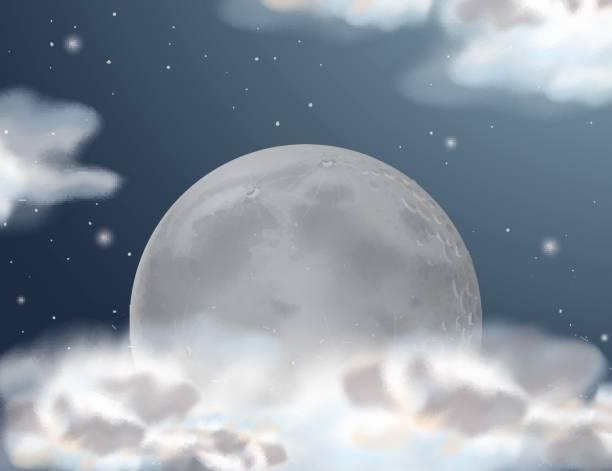moon: (126, 121, 485, 471)
